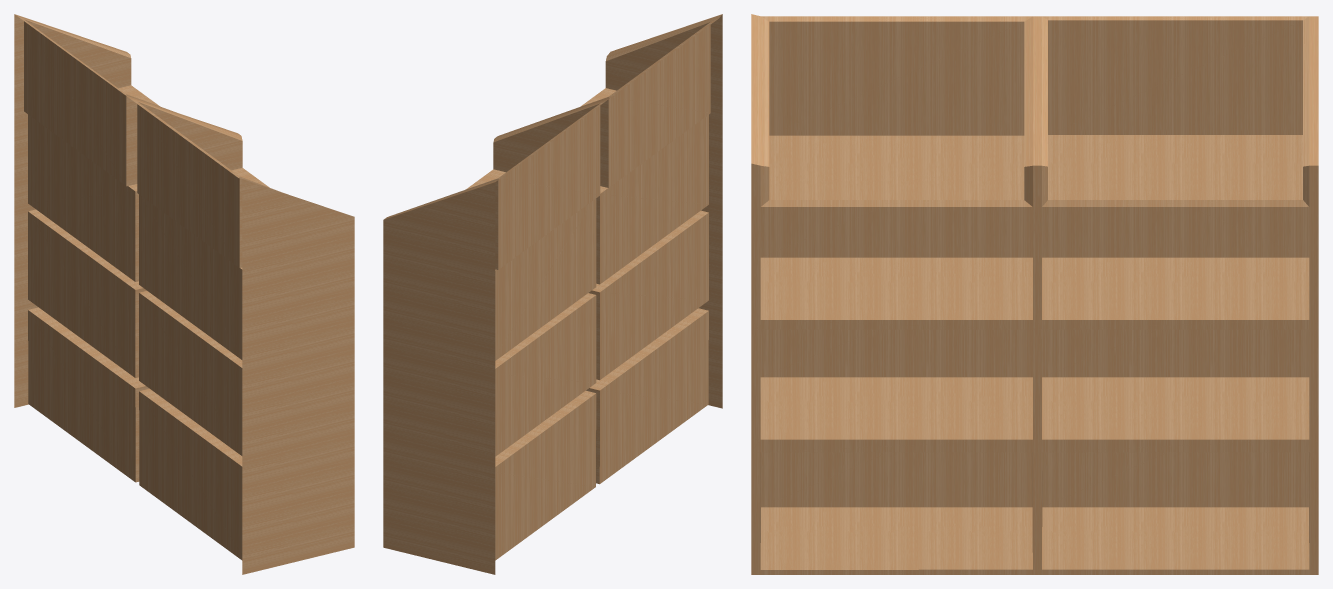
The model's file is estante.FBX.
The picture shows the model from 3 angles, left to right: view 1: azimuth 30°, elevation 25°; view 2: azimuth 150°, elevation 25°; view 3: azimuth 270°, elevation 25°; orthographic projection. The views are drawn at different scales.
Parts seen in each view (by area): view 1: estante; view 2: estante; view 3: estante.
Part boxes in pixels (x1,y1,x2,y2): estante: (14, 14, 354, 574); estante: (383, 14, 722, 574); estante: (751, 14, 1318, 574).
Bounding box in the file's own units: 141 × 496 × 476.
